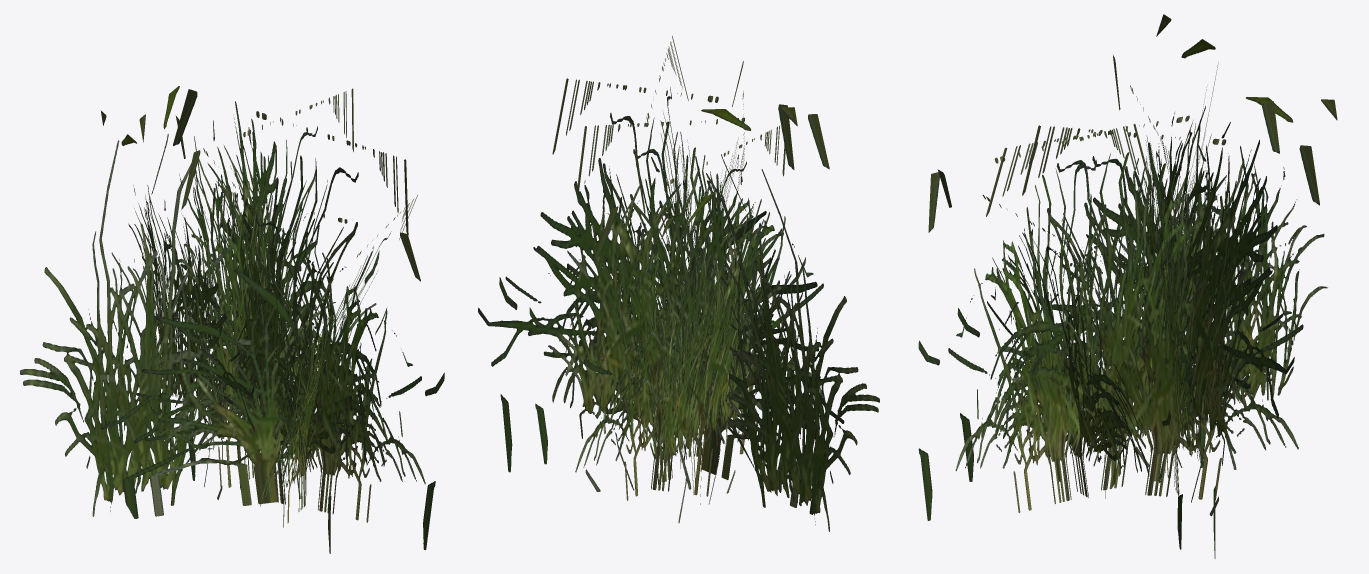
The model's file is meadow_grass_002_c_LOD1.gltf.
3 views of the same model, side by side, from view 1: azimuth 30°, elevation 25°; view 2: azimuth 150°, elevation 25°; view 3: azimuth 270°, elevation 25° (orthographic). The views are drawn at different scales.
Visible parts, largest first — view 1: meadow_grass_002_c_LOD1; view 2: meadow_grass_002_c_LOD1; view 3: meadow_grass_002_c_LOD1.
Boxes of the visible parts, bbox=[...] form: meadow_grass_002_c_LOD1: bbox=[20, 86, 444, 553]; meadow_grass_002_c_LOD1: bbox=[478, 36, 879, 531]; meadow_grass_002_c_LOD1: bbox=[918, 14, 1337, 558].
Size of the model in its own units: 0.8929 by 0.9027 by 0.8637.
Materials: 1 (1 with a texture image).
